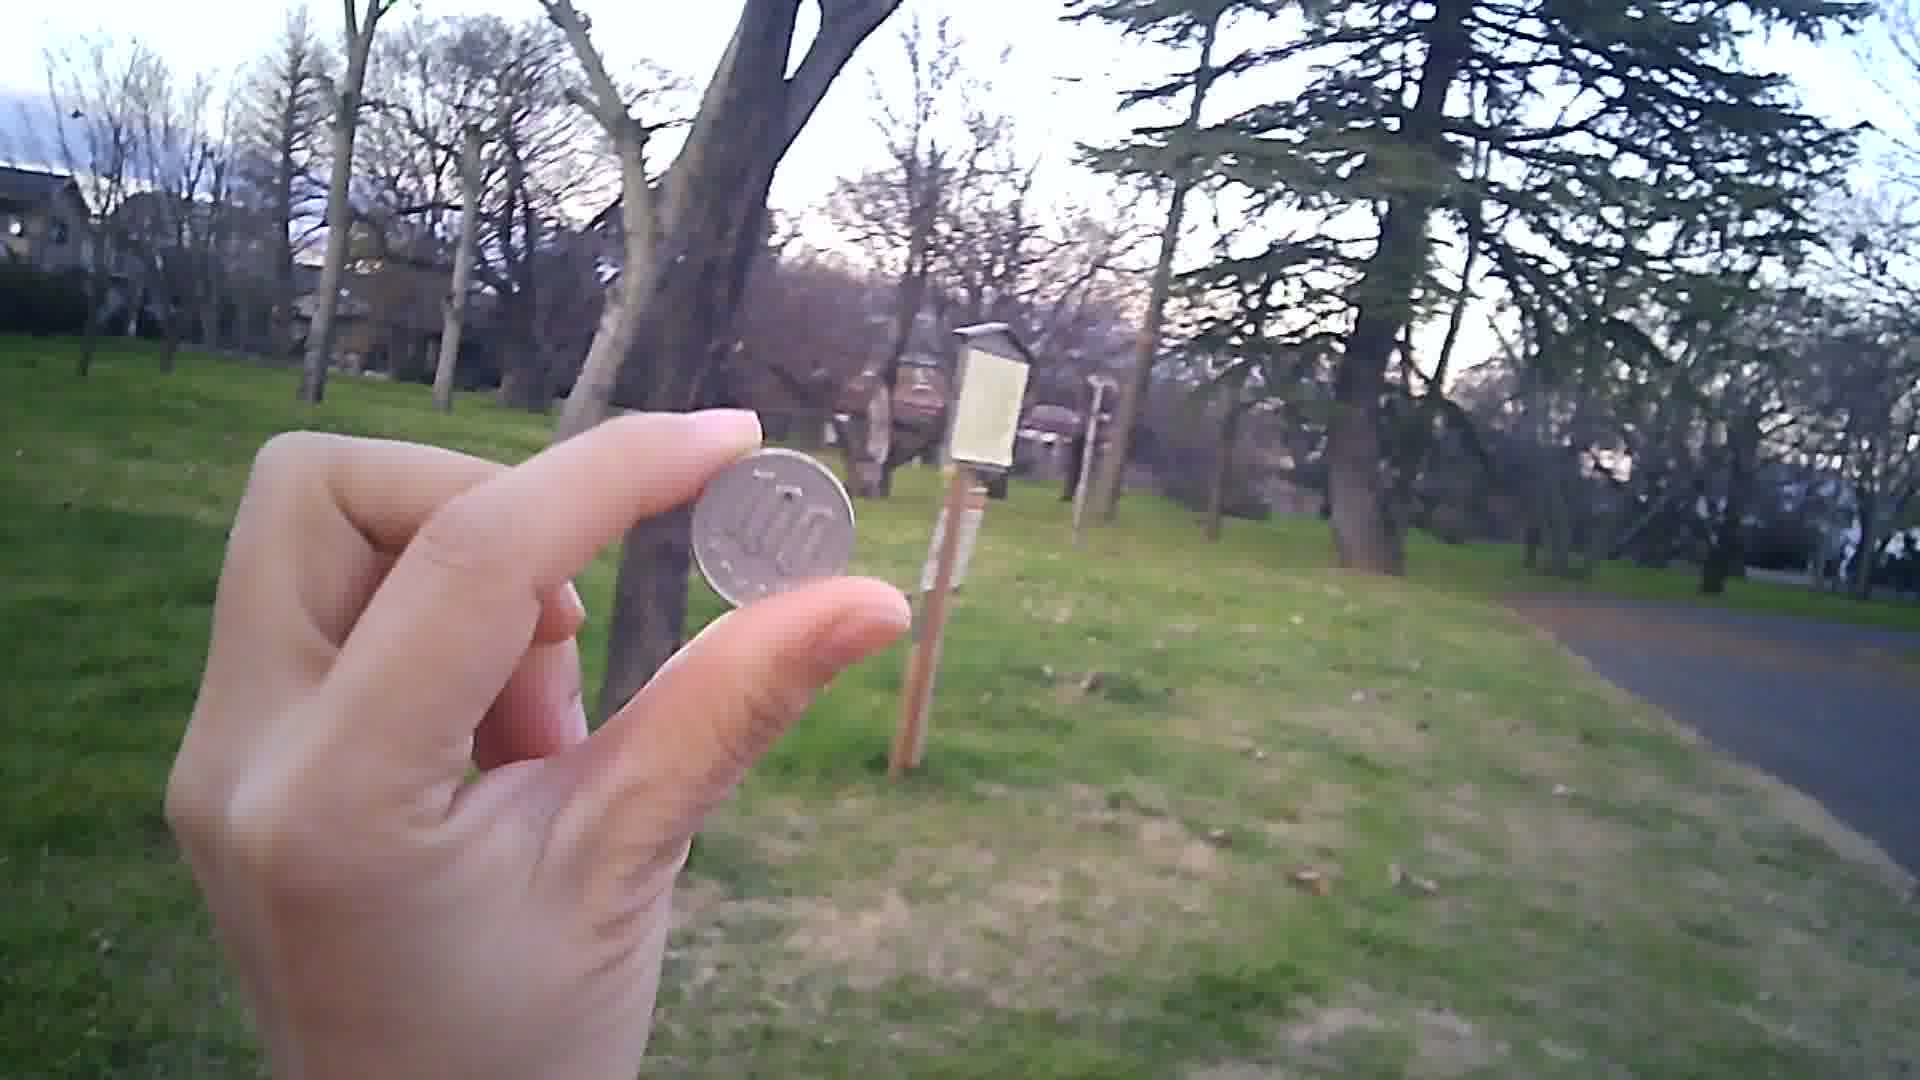100 Yen: (673, 444, 851, 605)
